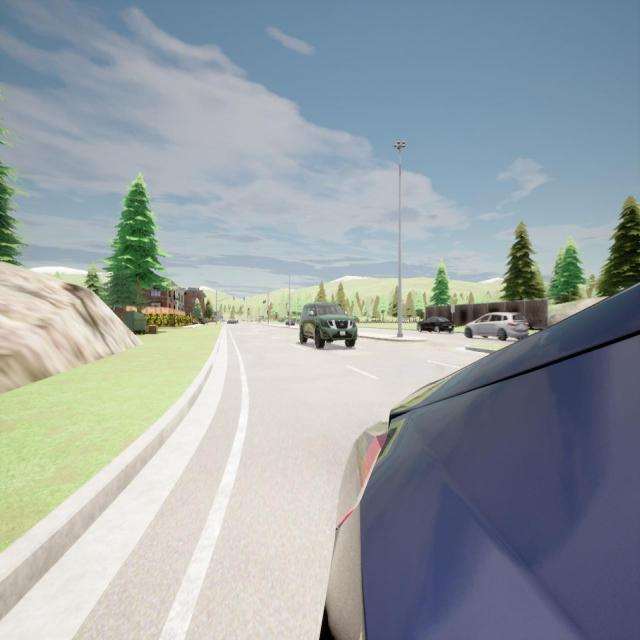Vehicle: (326, 283, 640, 638), (300, 302, 358, 348), (464, 312, 529, 341), (416, 316, 454, 333), (285, 318, 295, 326), (227, 319, 239, 325)
traffic_light: (243, 297, 245, 301), (262, 300, 264, 304), (266, 310, 268, 314), (233, 296, 234, 301), (265, 300, 266, 303), (264, 300, 264, 304)
